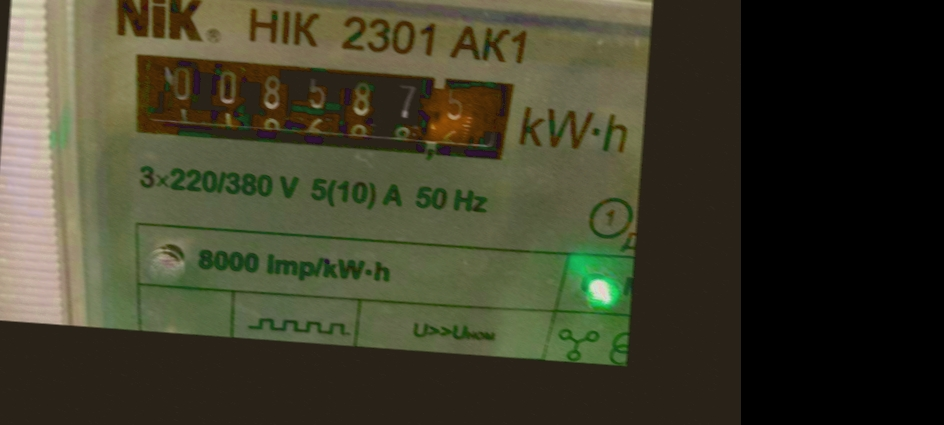0: (213, 65, 240, 107)
1: (167, 62, 194, 104)
5: (442, 83, 468, 124), (304, 73, 330, 112)
7: (393, 80, 418, 123)
8: (257, 70, 285, 113), (349, 77, 373, 119)
screen: (109, 33, 534, 182)
